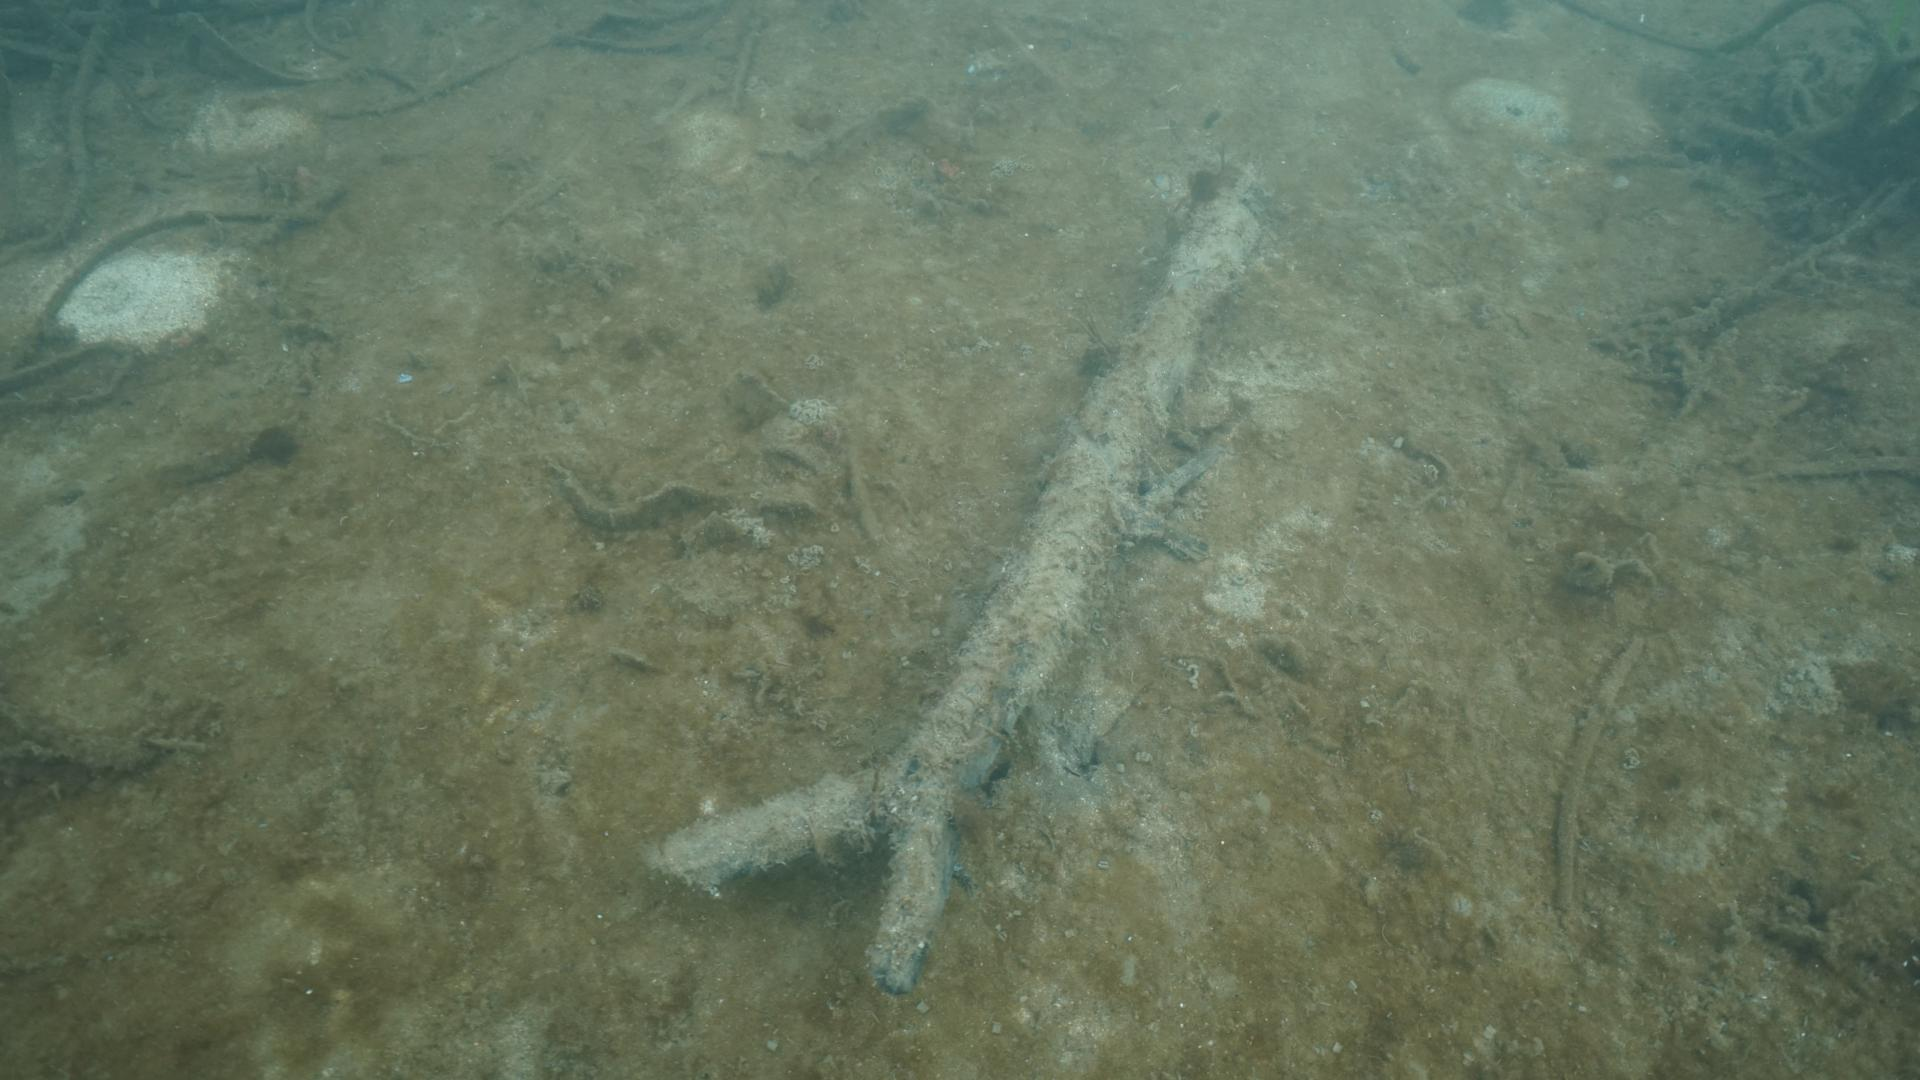wood: (644, 160, 1269, 996)
